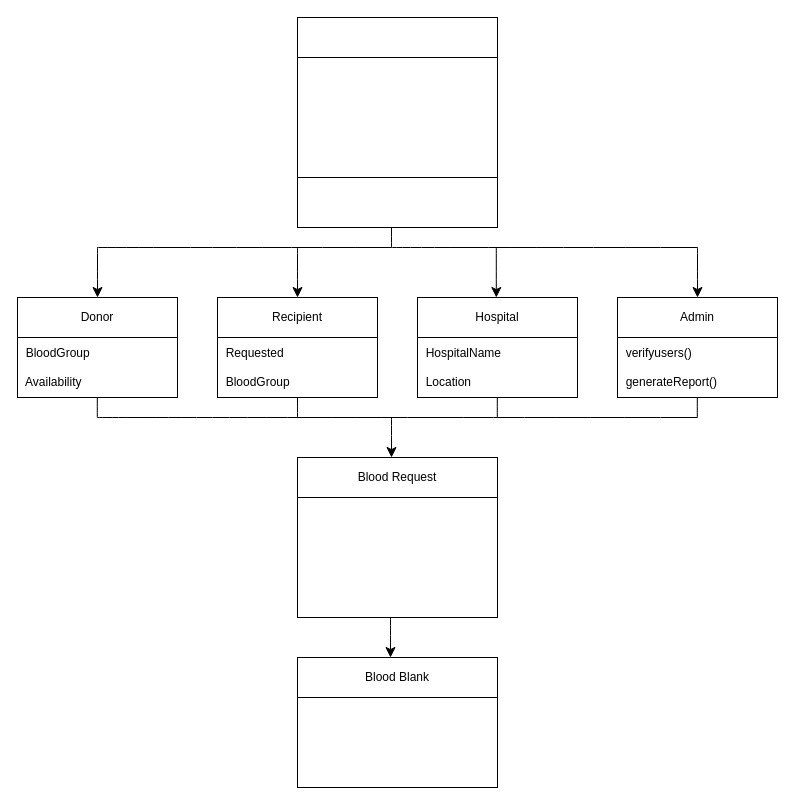
The diagram is 795 pixels wide and 805 high, and some of its shapes have lost their labels. The centre of each missing label's shape, as x and y in pixels:
"bankId stock updateStock()" goes at (397,742).
"login() logout()" goes at (397,202).
"requesteId status BloodGroup Hospital" goes at (397,557).
"User" goes at (397,37).
"UserId Name Email Phone" goes at (397,117).
